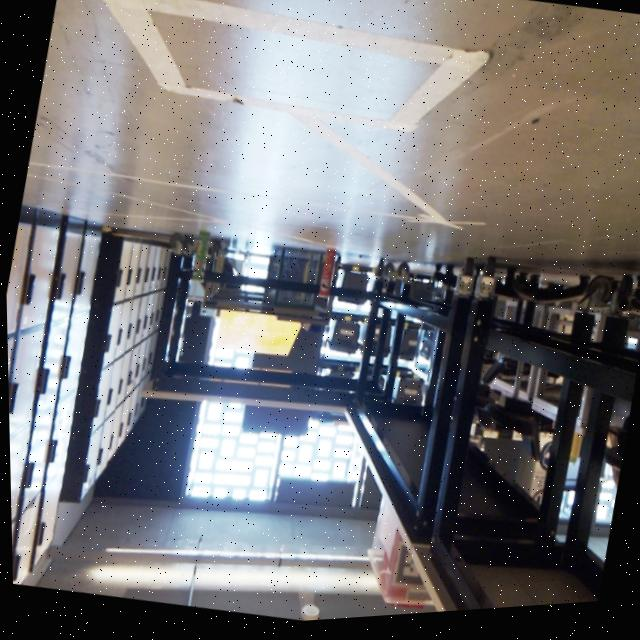greenpringles: (176, 226, 220, 296)
redpringles: (303, 241, 347, 310)
